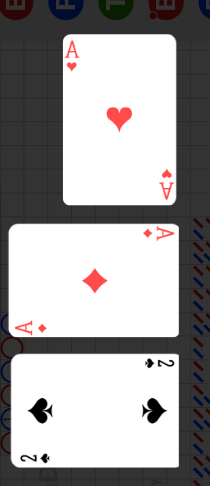2S: (142, 357, 175, 370)
AH: (157, 166, 174, 201), (65, 39, 81, 75)
